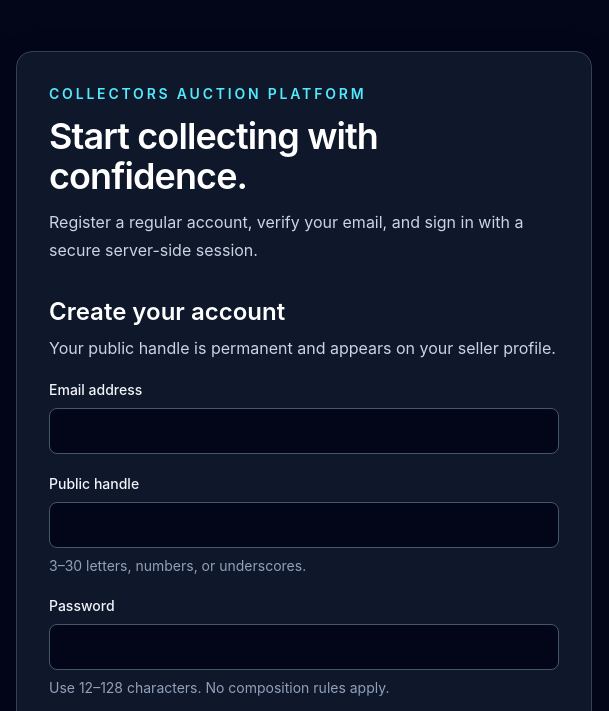
Test case: App › moves from successful registration to verification
Check: the heading "Start collecting with confidence." is shown, box [49,114,378,198]
In the field labelled "Email address": (304, 431) [49,408,559,454], type "collector@example.com"
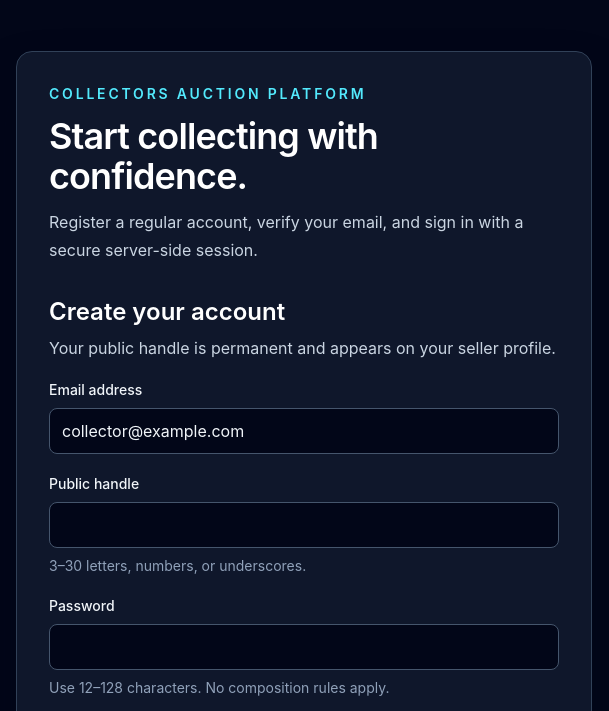
In the field labelled "Public handle": (304, 525) [49,502,559,548], type "collector_27"
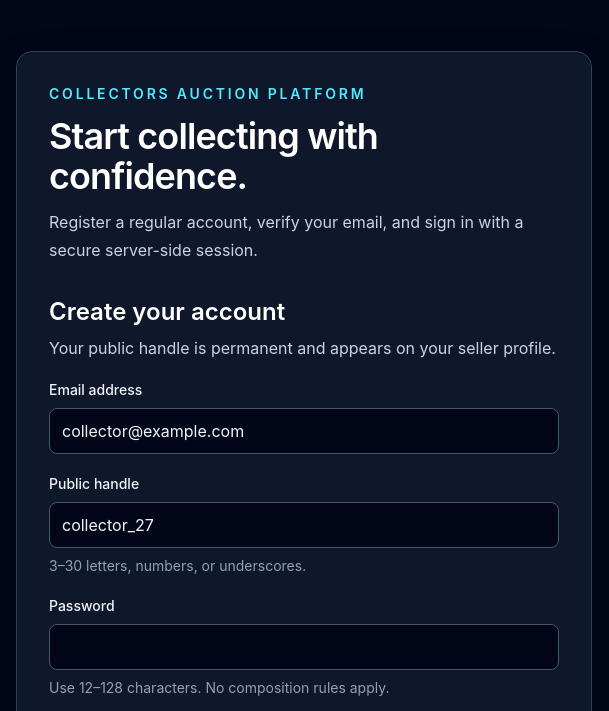
In the password field labelled "Password": (304, 647) [49,624,559,670], type "a secure passphrase"
(page scrolled)
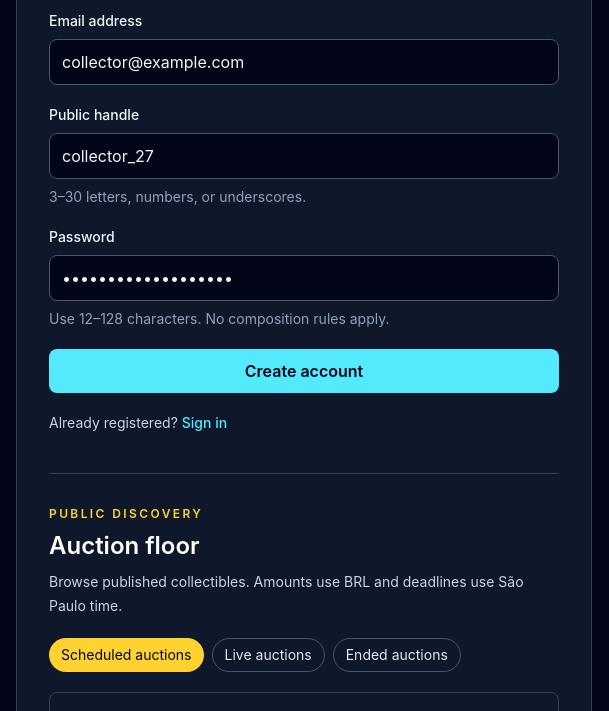
Click the button "Create account": (304, 371) [49,349,559,393]
(page scrolled)
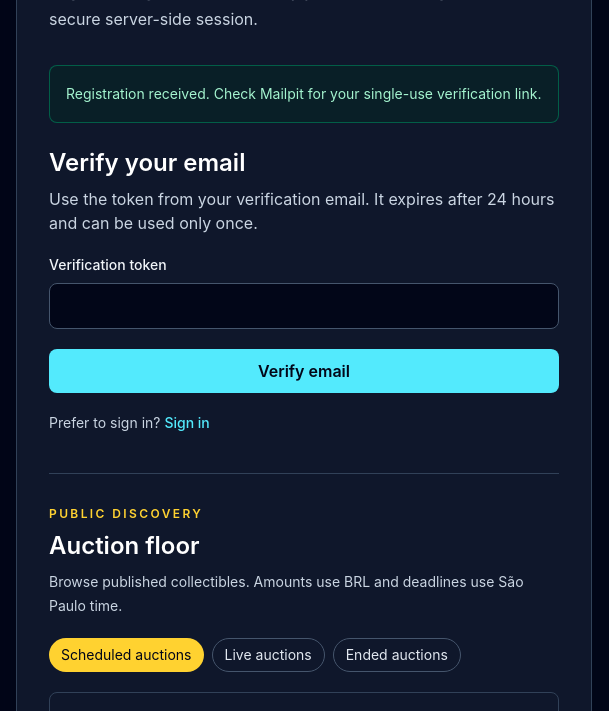
Check: the heading "Verify your email" is shown, box [49,148,245,177]
Check: the text "Registration received. Check Mailpit for your single-use verification link." is shown, box [49,65,559,123]
